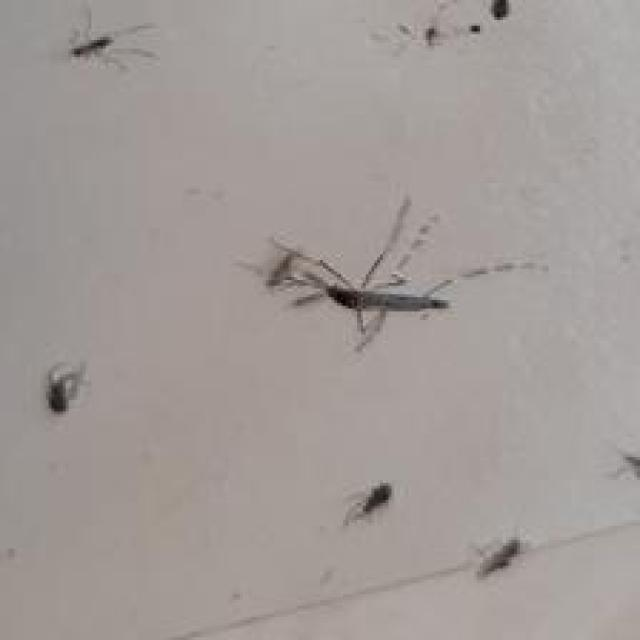Aedes albopictus: (64, 1, 159, 73)
